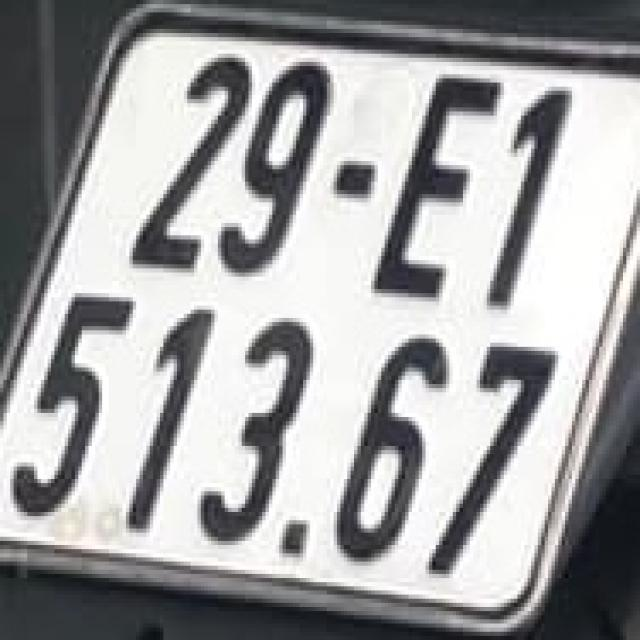1: (484, 78, 576, 310), (126, 301, 211, 537)
2: (126, 50, 242, 276)
3: (198, 310, 313, 545)
5: (10, 285, 130, 520)
6: (330, 330, 446, 566)
7: (429, 339, 555, 586)
9: (232, 58, 337, 276)
E: (374, 72, 500, 304)
